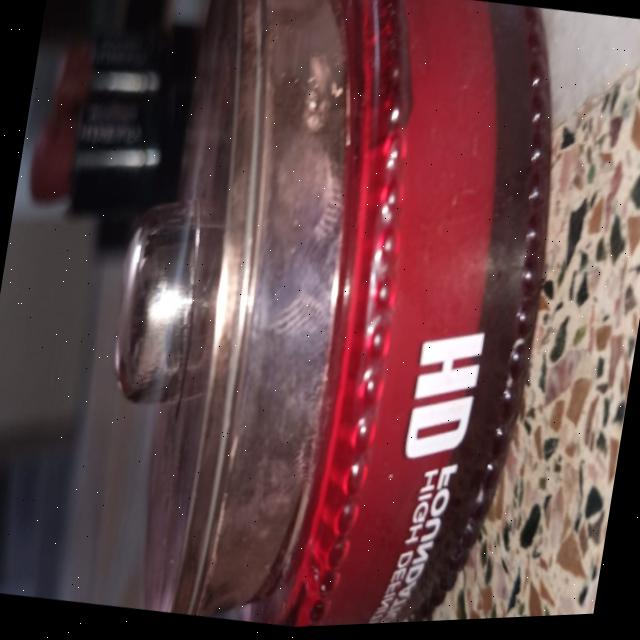foundation: (43, 0, 598, 638)
